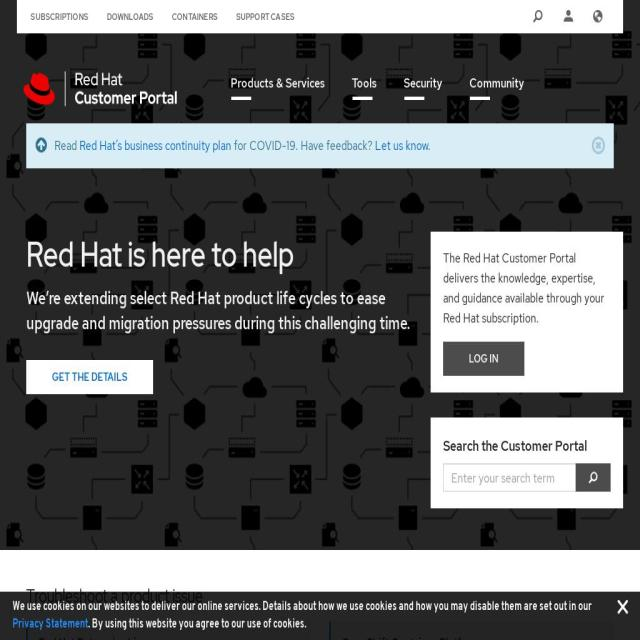button: (223, 58, 344, 109), (26, 621, 310, 640), (329, 621, 613, 640), (26, 360, 153, 395), (462, 58, 537, 109), (396, 58, 462, 109), (442, 342, 524, 376), (344, 58, 396, 109), (227, 0, 302, 33), (22, 0, 96, 33), (98, 0, 162, 33), (163, 0, 225, 33), (553, 0, 582, 33), (523, 0, 551, 33), (583, 0, 611, 33)
field: (442, 463, 576, 492)
heading: (26, 232, 412, 276), (26, 583, 614, 609)
image: (588, 468, 623, 486)
label: (442, 434, 588, 457)
link: (80, 137, 232, 154), (13, 618, 88, 631), (375, 137, 428, 154)
text: (26, 285, 412, 335), (442, 248, 610, 328), (12, 601, 592, 613), (88, 618, 306, 631), (231, 137, 375, 154), (54, 137, 80, 154), (428, 137, 431, 154)
